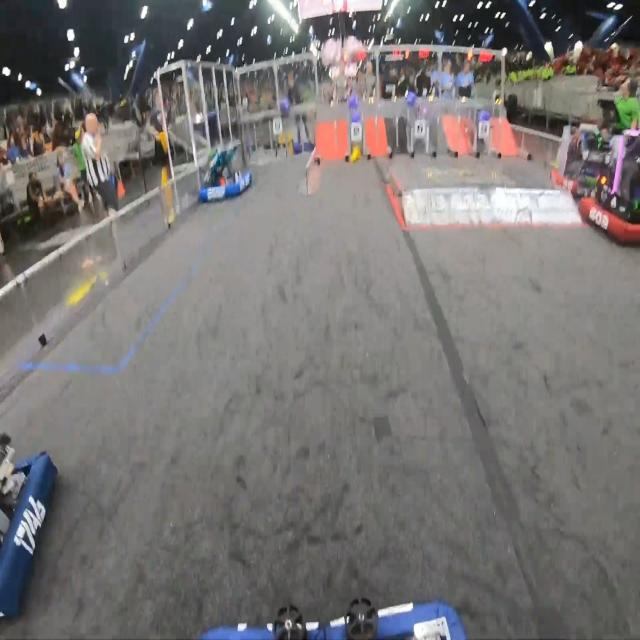robot: (0, 428, 60, 626), (579, 125, 640, 249), (550, 118, 604, 200), (198, 141, 252, 205)
